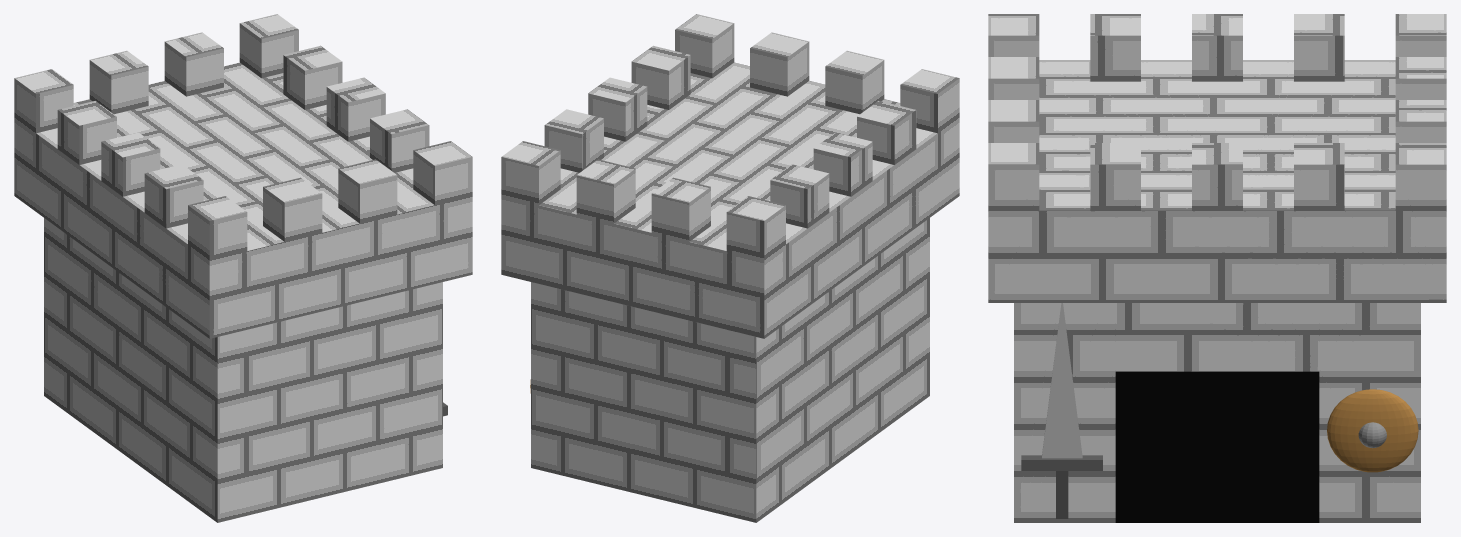
Rendered from EquipShop.fbx.
3 views of the same model, side by side, from view 1: azimuth 30°, elevation 25°; view 2: azimuth 150°, elevation 25°; view 3: azimuth 270°, elevation 25° (orthographic). The views are drawn at different scales.
Visible parts, largest first — view 1: EquipShop; view 2: EquipShop; view 3: EquipShop, Shield, Sword.
Boxes of the visible parts, bbox=[...] form: EquipShop: bbox=[14, 14, 472, 522]; EquipShop: bbox=[501, 14, 959, 522]; EquipShop: bbox=[988, 14, 1446, 522]; Shield: bbox=[1327, 389, 1418, 472]; Sword: bbox=[1021, 303, 1102, 518].
Size of the model in its own units: 140 by 160 by 180.
